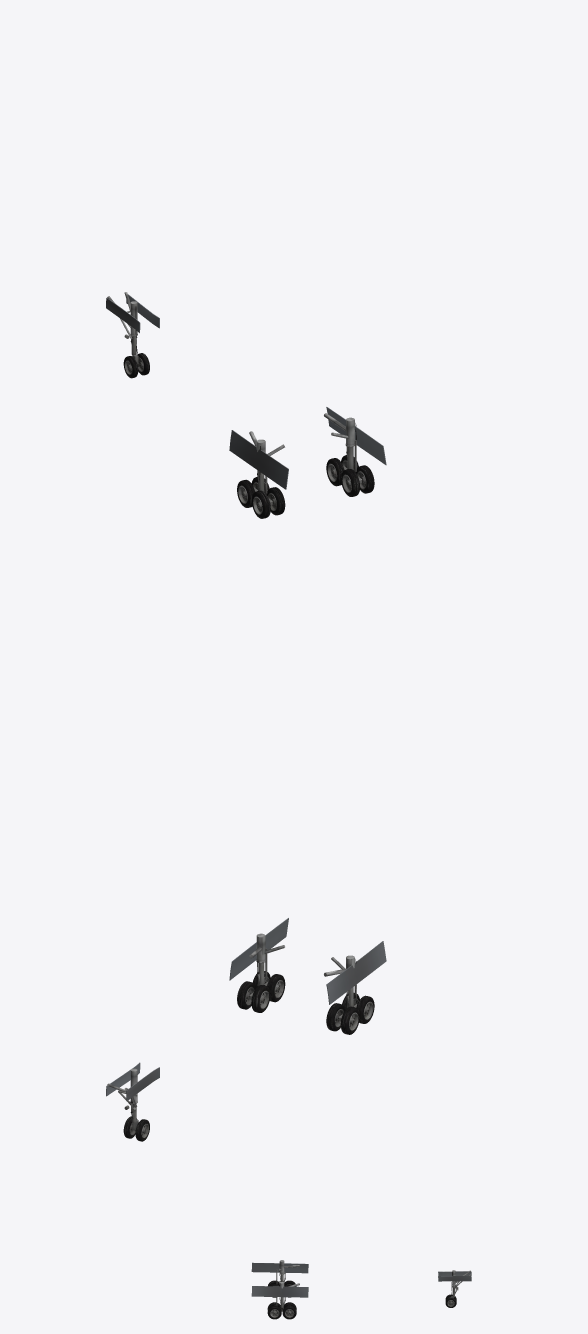
Rendered from e_b1b_gear.glb.
The picture shows the model from 3 angles, top to bottom: view 1: azimuth 30°, elevation 25°; view 2: azimuth 150°, elevation 25°; view 3: azimuth 270°, elevation 25°; orthographic projection. The views are drawn at different scales.
Visible parts, largest first — view 1: body|B1_paint; view 2: body|B1_paint; view 3: body|B1_paint.
Boxes of the visible parts, x1,y1,x2,y2 form: body|B1_paint: (106, 292, 386, 518); body|B1_paint: (106, 918, 386, 1141); body|B1_paint: (251, 1260, 471, 1319).
Size of the model in its own units: 5.11 by 11.92 by 44.52.
Materials: 1 (1 with a texture image).
